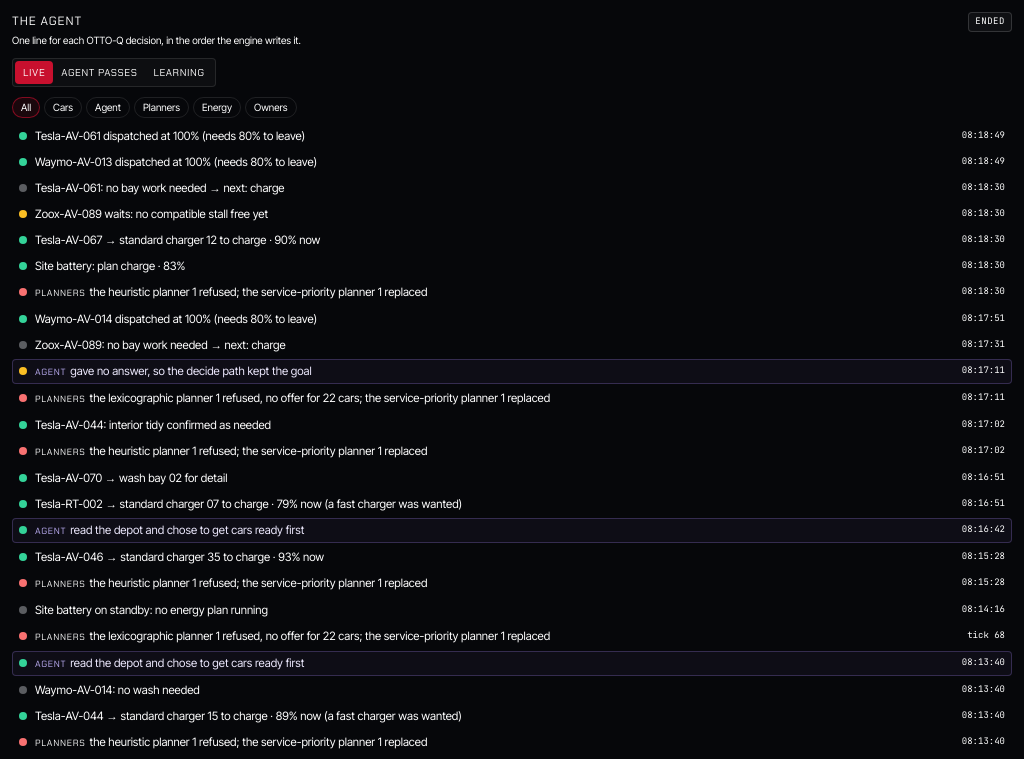
Scenario: Agent tab › learning says OTTO-Q does not experiment in production, and that estimates are not built
Step 1. Click the tab "Learning" → point(179, 72), box 145,61 -> 212,84
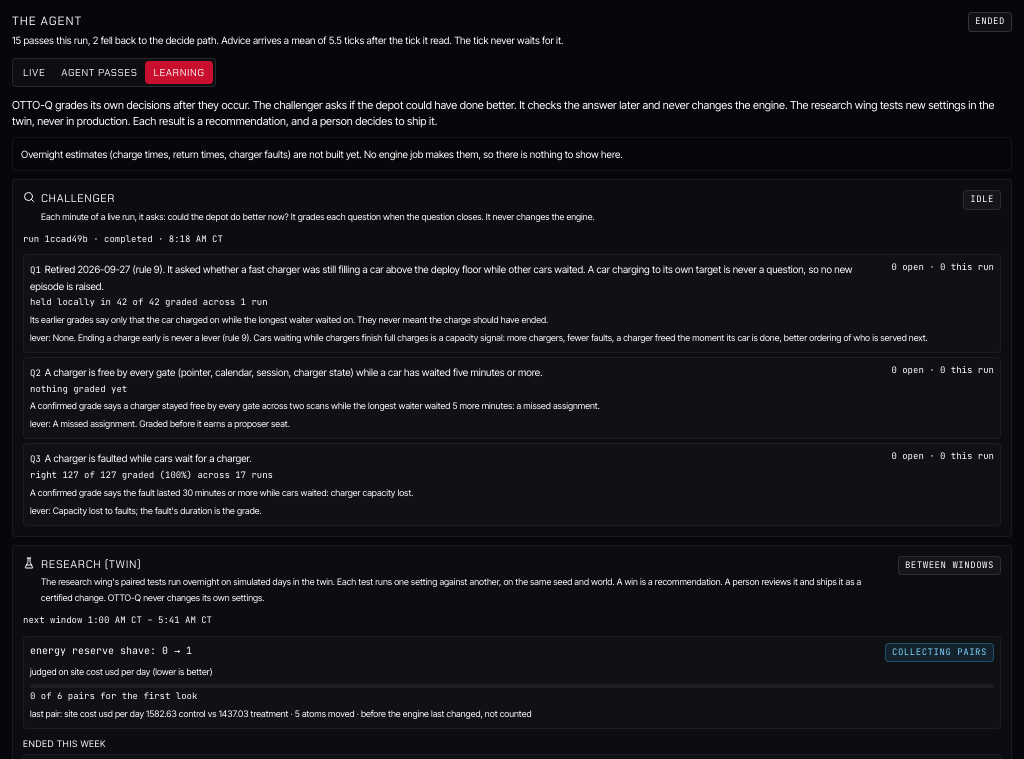
Now the text "in the twin, never in production" is shown, box 12,98 -> 994,128
